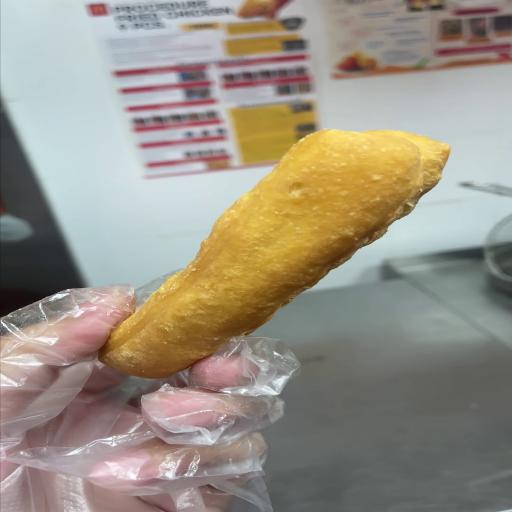brand_golden_good: (100, 130, 449, 378)
